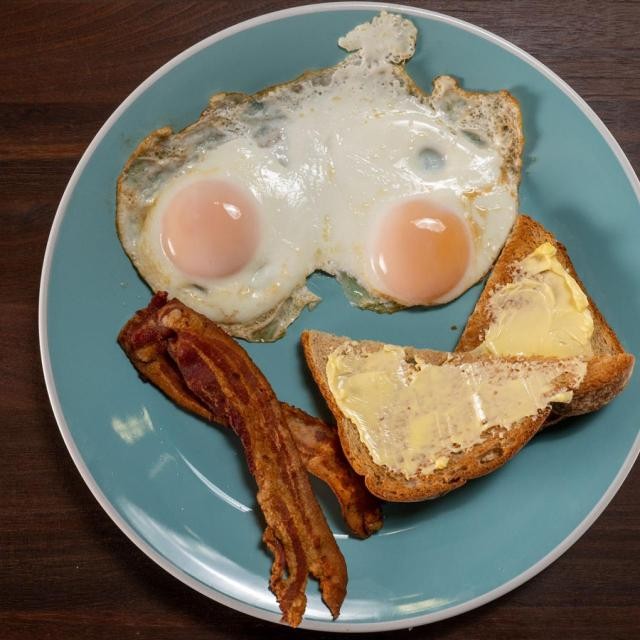Bacon: (119, 294, 348, 626), (281, 402, 382, 538)
Egg: (269, 25, 524, 306), (116, 92, 316, 330)
